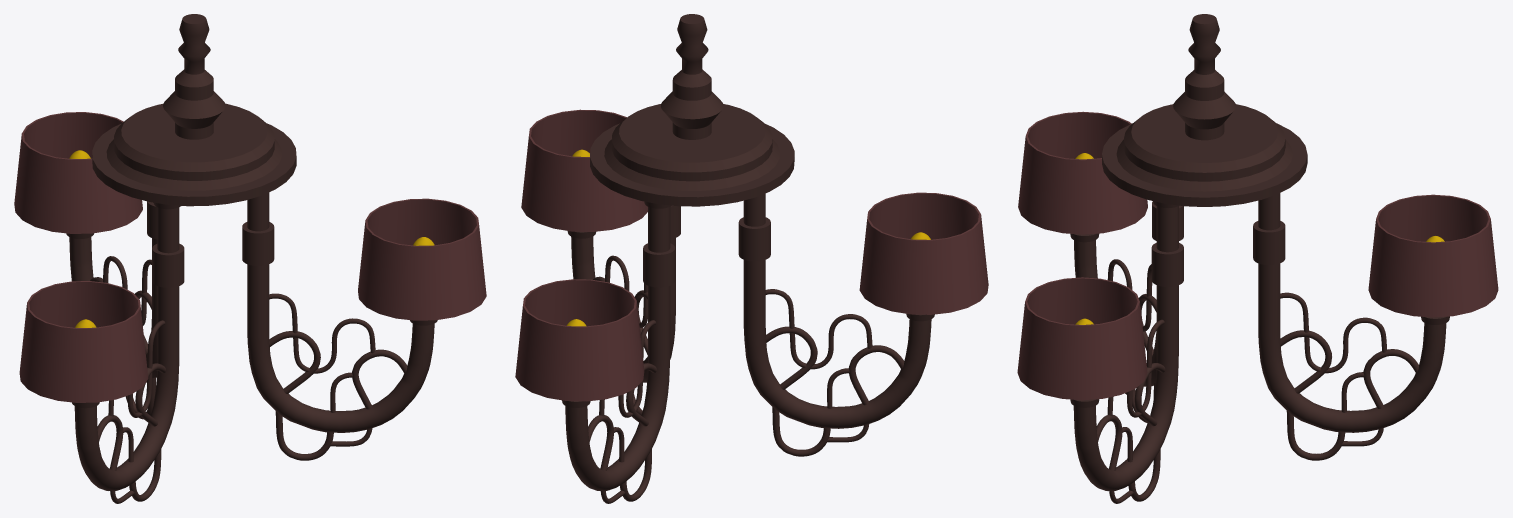
File: Lustre2_5.fbx
3 views of the same model, side by side, from view 1: azimuth 30°, elevation 25°; view 2: azimuth 150°, elevation 25°; view 3: azimuth 270°, elevation 25° (orthographic).
Visible parts, largest first — view 1: pCylinder1147, pPipe163, pPipe165, pPipe164, pCylinder1185, pCylinder1190, pCylinder1198, pCylinder1180, pCylinder1179, pCylinder1160, pCylinder1181, pCylinder1148; view 2: pCylinder1147, pPipe164, pPipe165, pPipe163, pCylinder1190, pCylinder1198, pCylinder1185, pCylinder1193, pCylinder1192, pCylinder1189, pCylinder1187, pCylinder1180 (+1 smaller); view 3: pCylinder1147, pPipe163, pPipe164, pPipe165, pCylinder1198, pCylinder1185, pCylinder1190, pCylinder1165, pCylinder1174, pCylinder1173, pCylinder1176, pCylinder1160.
Part boxes in pixels (x1,y1,x2,y2): pCylinder1147: [92, 14, 296, 206]; pPipe163: [358, 198, 486, 320]; pPipe165: [19, 281, 148, 402]; pPipe164: [14, 112, 142, 233]; pCylinder1185: [242, 192, 434, 432]; pCylinder1190: [74, 202, 184, 490]; pCylinder1198: [69, 201, 157, 382]; pCylinder1180: [293, 318, 375, 373]; pCylinder1179: [269, 331, 320, 393]; pCylinder1160: [352, 349, 407, 409]; pCylinder1181: [275, 411, 333, 460]; pCylinder1148: [97, 416, 123, 470]; pCylinder1147: [590, 14, 794, 206]; pPipe164: [515, 279, 644, 401]; pPipe165: [859, 192, 988, 314]; pPipe163: [521, 109, 647, 231]; pCylinder1190: [738, 193, 931, 428]; pCylinder1198: [565, 201, 675, 490]; pCylinder1185: [571, 205, 680, 382]; pCylinder1193: [789, 314, 871, 369]; pCylinder1192: [765, 326, 815, 389]; pCylinder1189: [848, 345, 903, 405]; pCylinder1187: [772, 407, 829, 456]; pCylinder1180: [605, 255, 647, 327]; pCylinder1147: [1102, 14, 1307, 206]; pPipe163: [1017, 277, 1147, 400]; pPipe164: [1368, 194, 1498, 317]; pPipe165: [1018, 111, 1147, 234]; pCylinder1198: [1253, 193, 1446, 432]; pCylinder1185: [1073, 201, 1183, 491]; pCylinder1190: [1074, 201, 1183, 386]; pCylinder1165: [1304, 318, 1386, 373]; pCylinder1174: [1280, 330, 1331, 393]; pCylinder1173: [1363, 349, 1418, 408]; pCylinder1176: [1286, 411, 1345, 460]; pCylinder1160: [1096, 415, 1122, 470].
Size of the model in its own units: 53.12 by 49.5 by 48.95.
